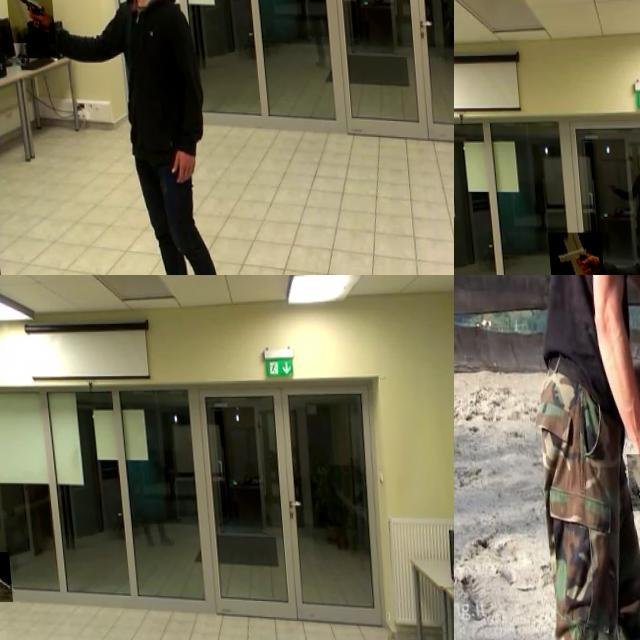-: (618, 453, 640, 511)
gun-knife-thesis - v11 Yolov5 augmented: (541, 231, 598, 275), (0, 0, 49, 43), (0, 551, 22, 601)
